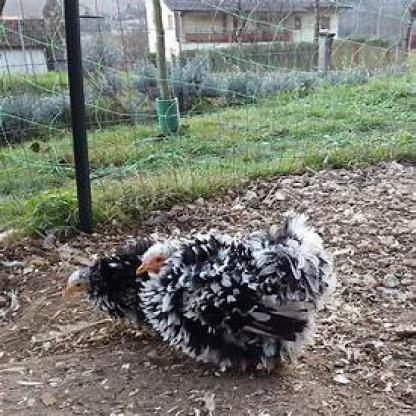chicken: (135, 221, 334, 377), (64, 241, 142, 333)
